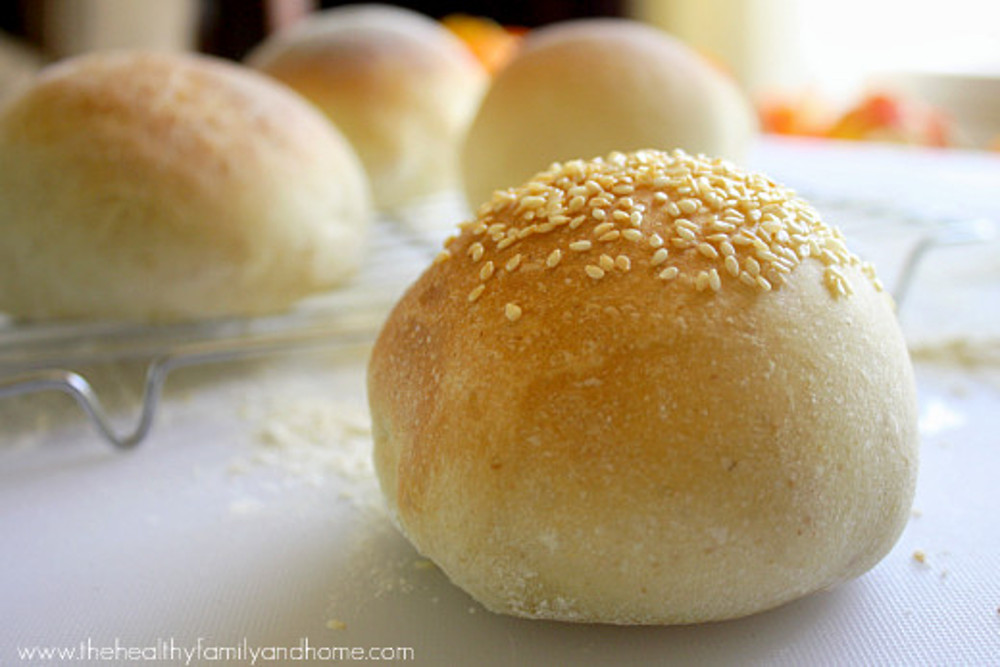hamburger_buns: (381, 142, 942, 610), (1, 65, 385, 320)
